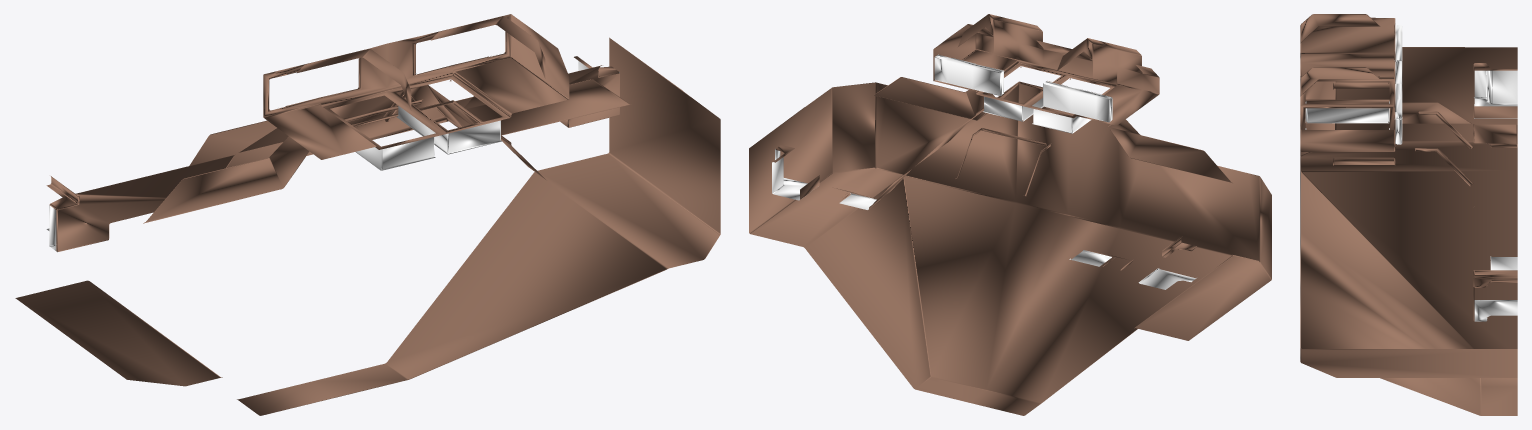
Rendered from transit_track_station_straight_128_single_cap_fs.glb.
3 views of the same model, side by side, from view 1: azimuth 30°, elevation 25°; view 2: azimuth 150°, elevation 25°; view 3: azimuth 270°, elevation 25° (orthographic). The views are drawn at different scales.
Bounding box in the file's own units: 8 × 5.26 × 3.11.
